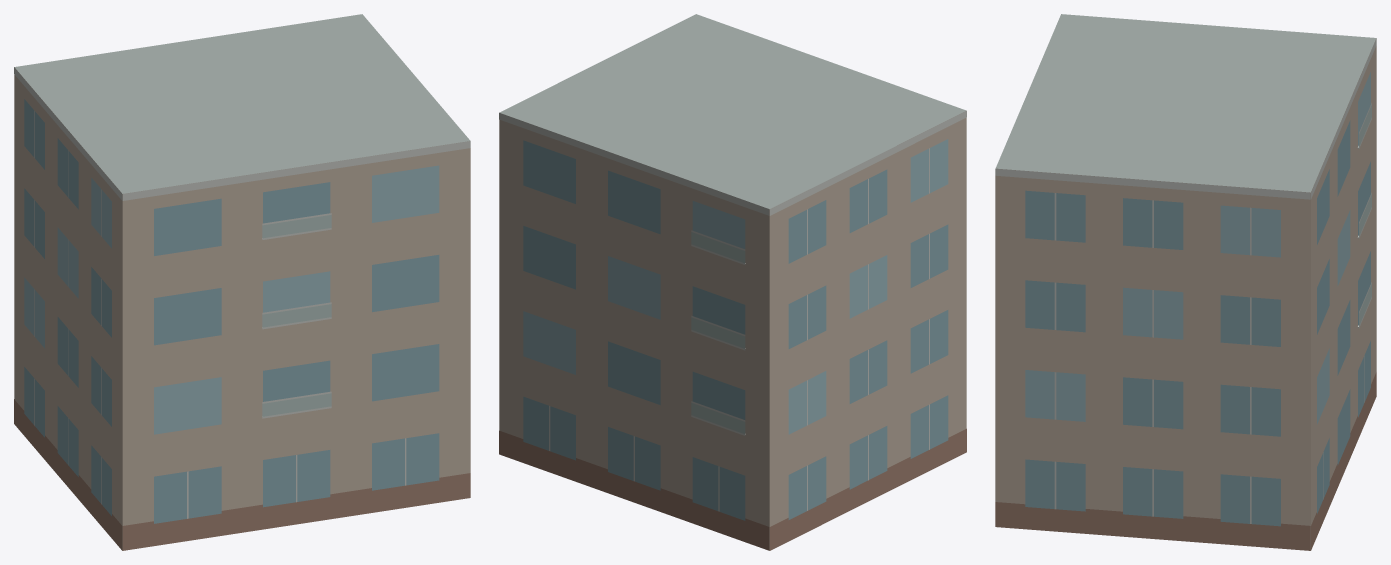
File: residential-26590604-e273-42bf-963f-7234640d5a85.glb
3 views of the same model, side by side, from view 1: azimuth 30°, elevation 25°; view 2: azimuth 150°, elevation 25°; view 3: azimuth 270°, elevation 25° (orthographic). The views are drawn at different scales.
Parts seen in each view (by area): view 1: residential-26590604-e273-42bf-963f-7234640d5a85.tmp; view 2: residential-26590604-e273-42bf-963f-7234640d5a85.tmp; view 3: residential-26590604-e273-42bf-963f-7234640d5a85.tmp.
Boxes of the visible parts, left/top/right/bottom form: residential-26590604-e273-42bf-963f-7234640d5a85.tmp: left=14, top=14, right=470, bottom=550; residential-26590604-e273-42bf-963f-7234640d5a85.tmp: left=499, top=14, right=966, bottom=550; residential-26590604-e273-42bf-963f-7234640d5a85.tmp: left=995, top=14, right=1376, bottom=550.
Size of the model in its own units: 13.04 by 12.2 by 11.77.
